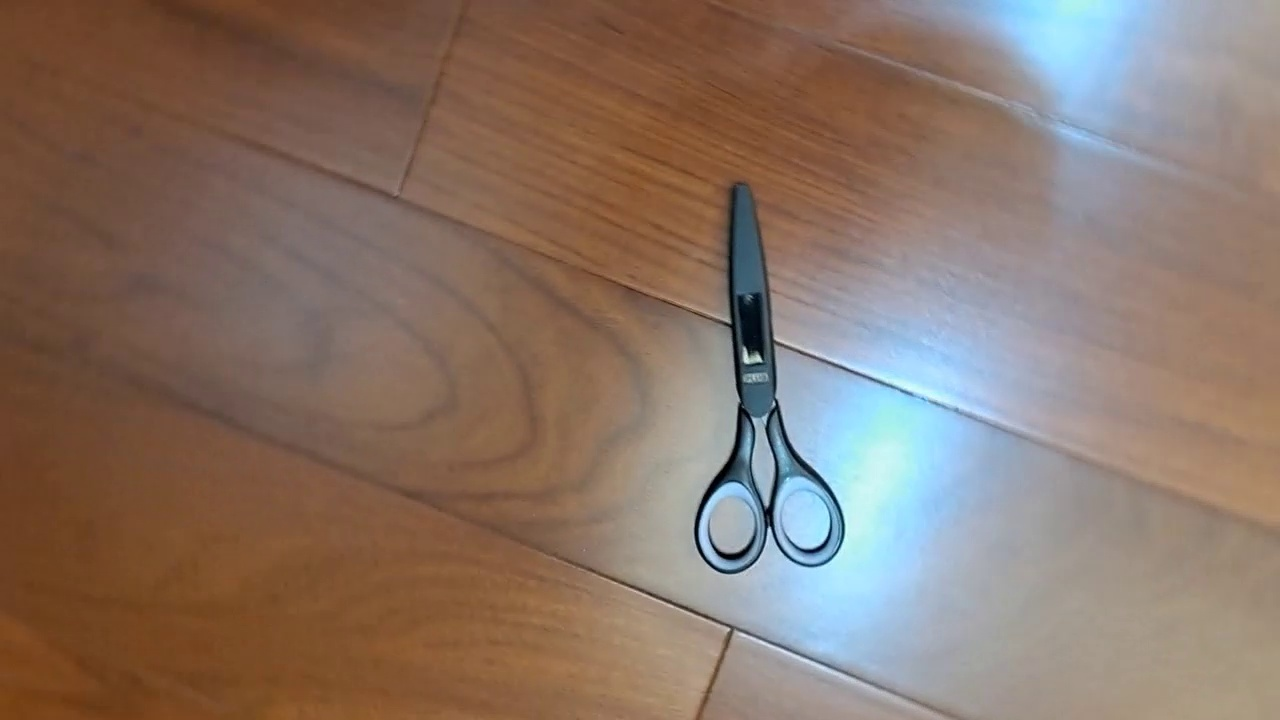scissors: (693, 181, 845, 574)
